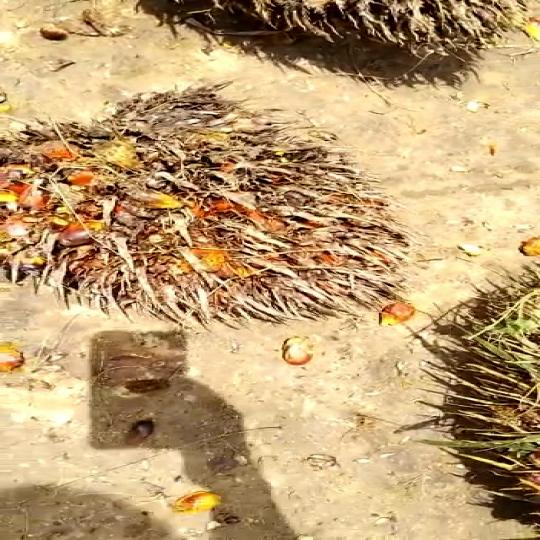terlalu masak: (0, 76, 424, 330)
